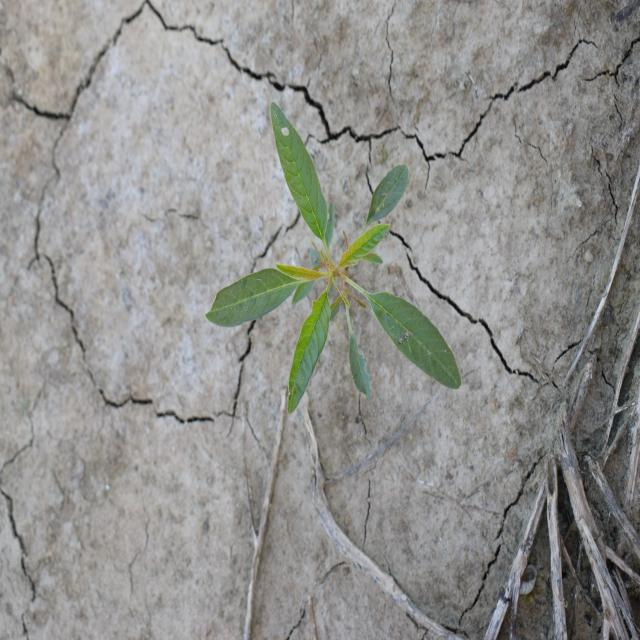Waterhemp: (205, 98, 462, 416)
